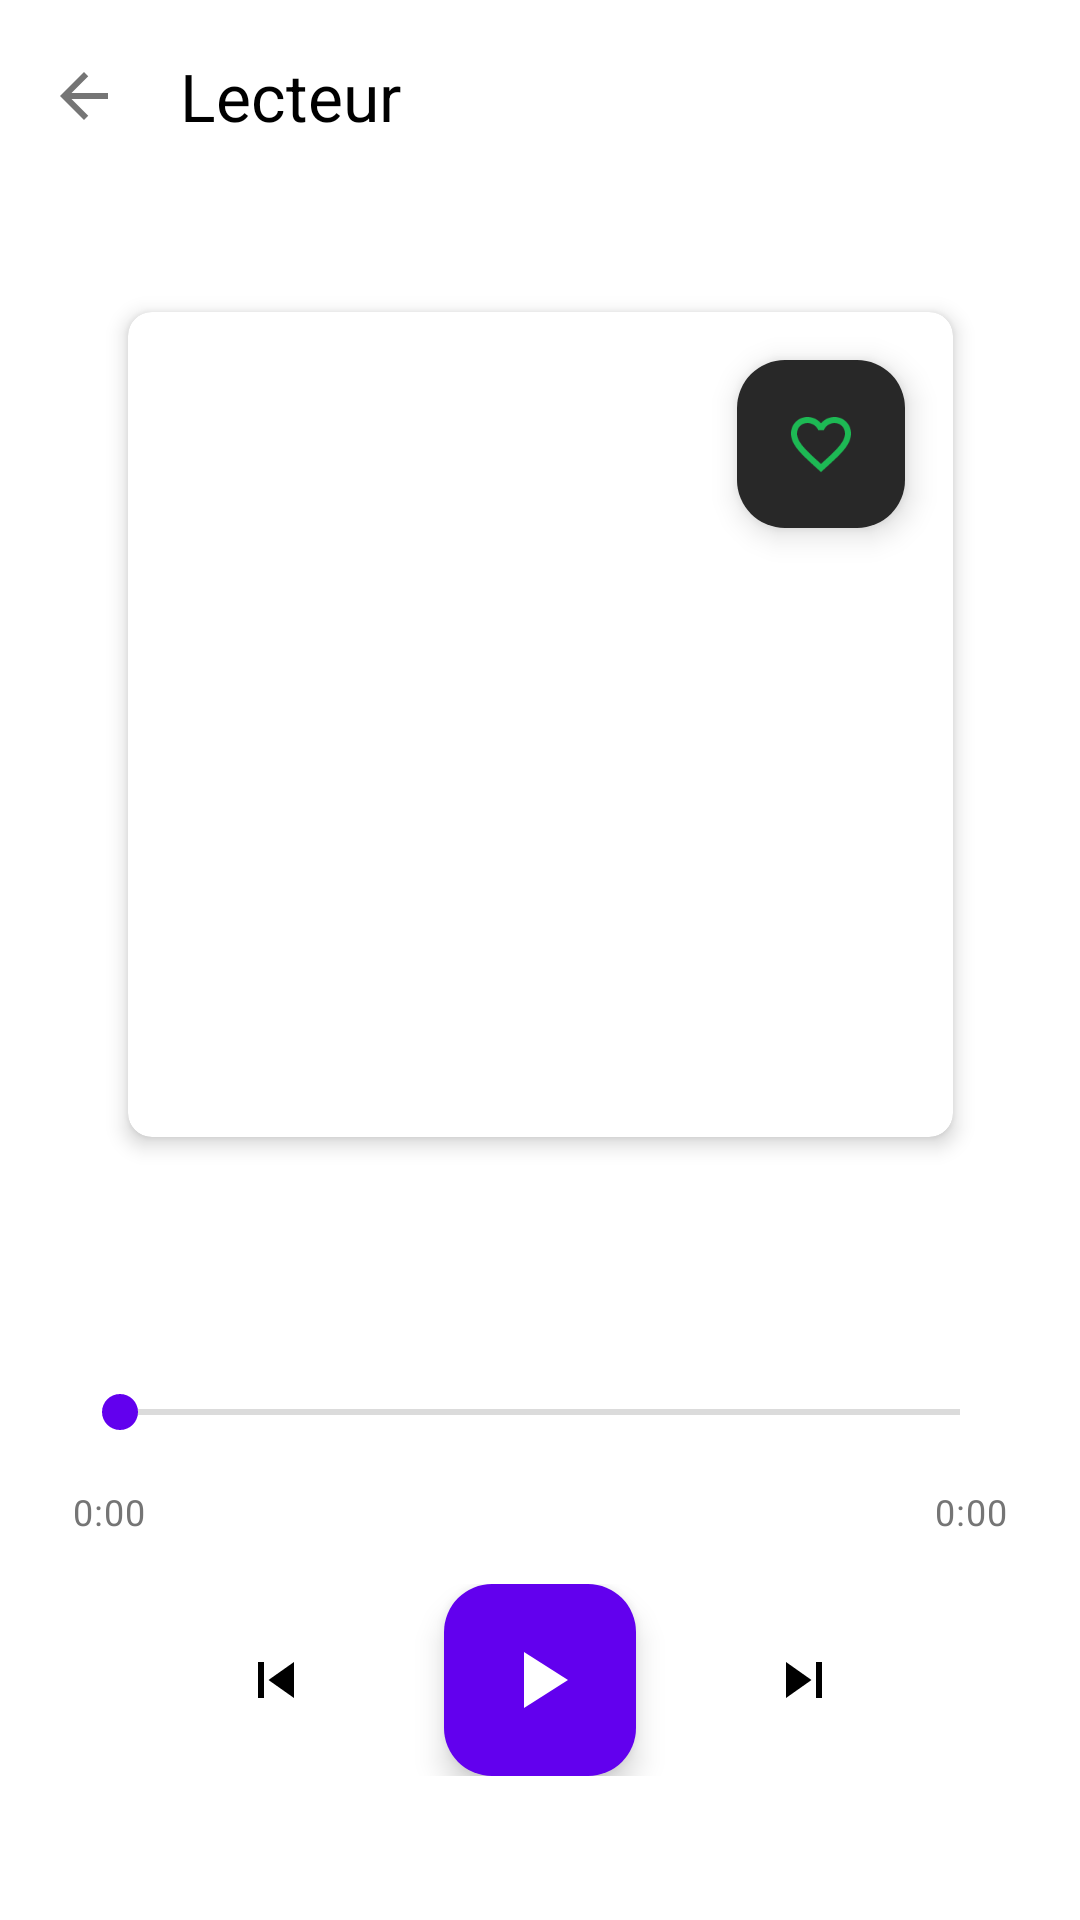

Screen size 1080px x 1920px. Icon name, then its box in pixels as [left=x1, top=y1, right=x2, bottom=y2]:
Ajouter aux favoris: [left=737, top=360, right=905, bottom=528]
Lecture/Pause: [left=444, top=1584, right=636, bottom=1776]
Morceau précédent: [left=258, top=1662, right=294, bottom=1698]
Morceau suivant: [left=786, top=1662, right=822, bottom=1698]
